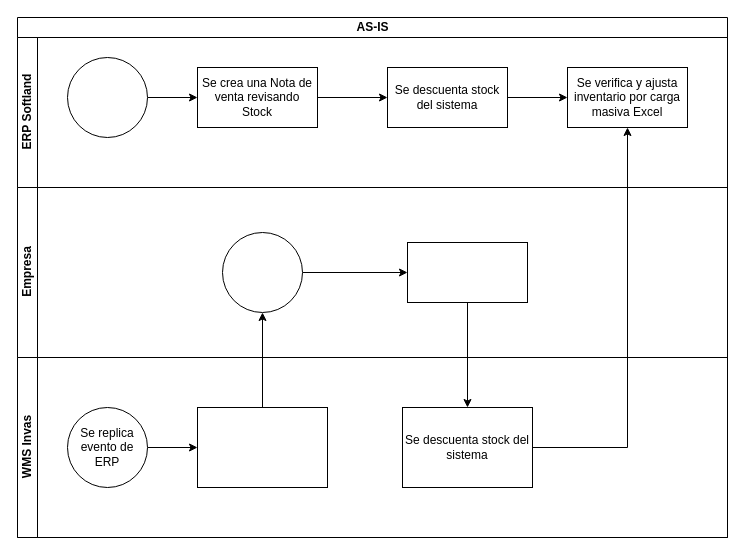
This 745x555 diagram has some shape labels left out. The centre of each missing label's shape, as x and y in pixels:
"Comienza la operación" goes at [262,272].
"Evento de negocio" goes at [107,97].
"Se arma pallets a despachar con los productos" goes at [467,272].
"Se hace picking de Productos a despachar según nota de venta." goes at [262,447].
